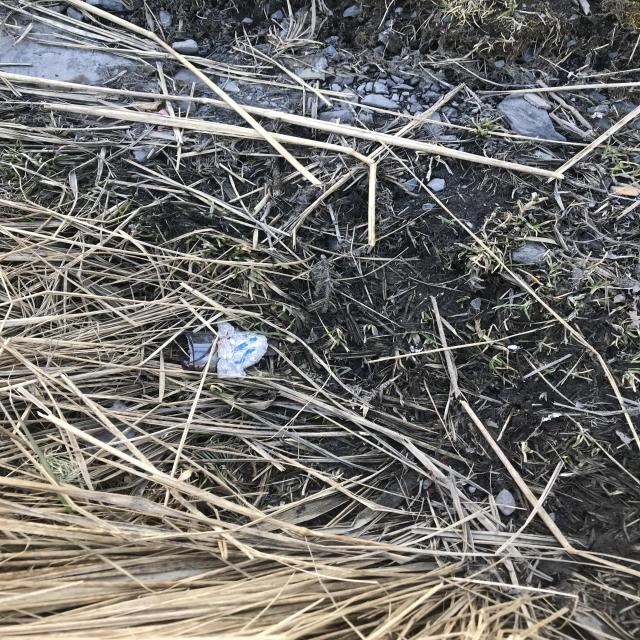litter: (185, 333, 267, 372)
